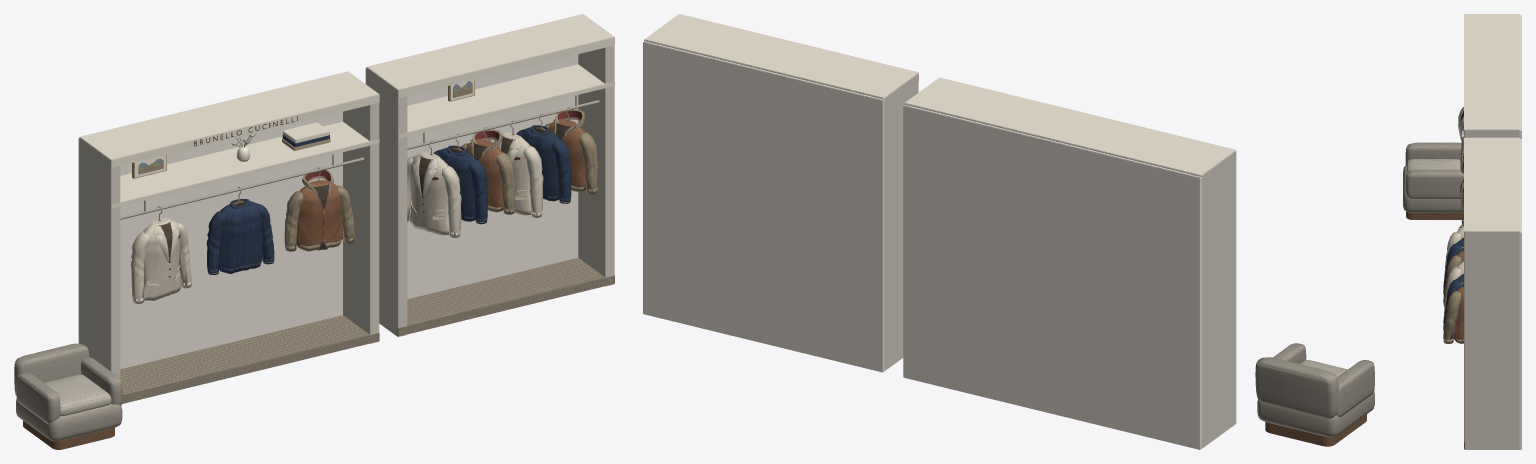
Rendered from gallery.glb.
The picture shows the model from 3 angles, left to right: view 1: azimuth 30°, elevation 25°; view 2: azimuth 150°, elevation 25°; view 3: azimuth 270°, elevation 25°; orthographic projection. The views are drawn at different scales.
Parts seen in each view (by area): view 1: CucinelliInterior, CucinelliTailoring, CucinelliSuede, CucinelliCashmere; view 2: CucinelliInterior; view 3: CucinelliInterior, CucinelliSuede, CucinelliTailoring, CucinelliCashmere.
Boxes of the visible parts, bbox=[...] form: CucinelliInterior: bbox=[14, 14, 614, 449]; CucinelliTailoring: bbox=[130, 120, 543, 303]; CucinelliSuede: bbox=[284, 107, 598, 251]; CucinelliCashmere: bbox=[206, 113, 571, 274]; CucinelliInterior: bbox=[643, 14, 1374, 449]; CucinelliInterior: bbox=[1403, 14, 1521, 449]; CucinelliSuede: bbox=[1443, 178, 1463, 343]; CucinelliTailoring: bbox=[1443, 107, 1463, 323]; CucinelliCashmere: bbox=[1443, 153, 1463, 329].
Size of the model in its own units: 6.94 by 2.75 by 1.35.
4 materials, 4 textured.
